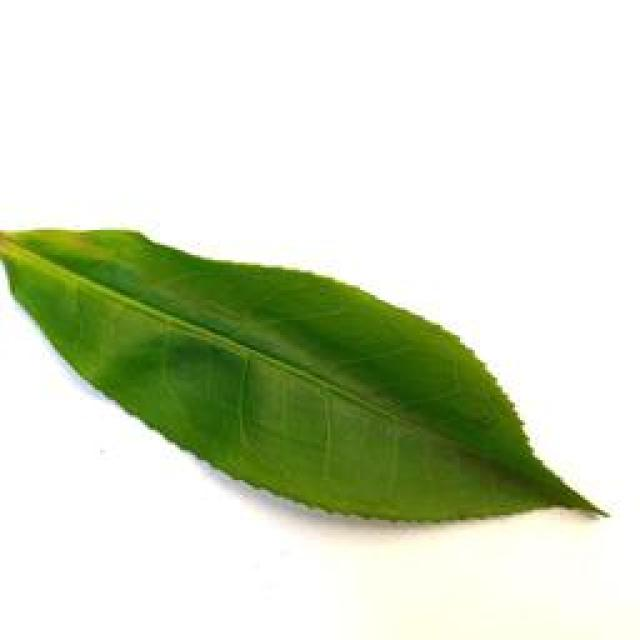Healthy: (3, 206, 616, 550)
